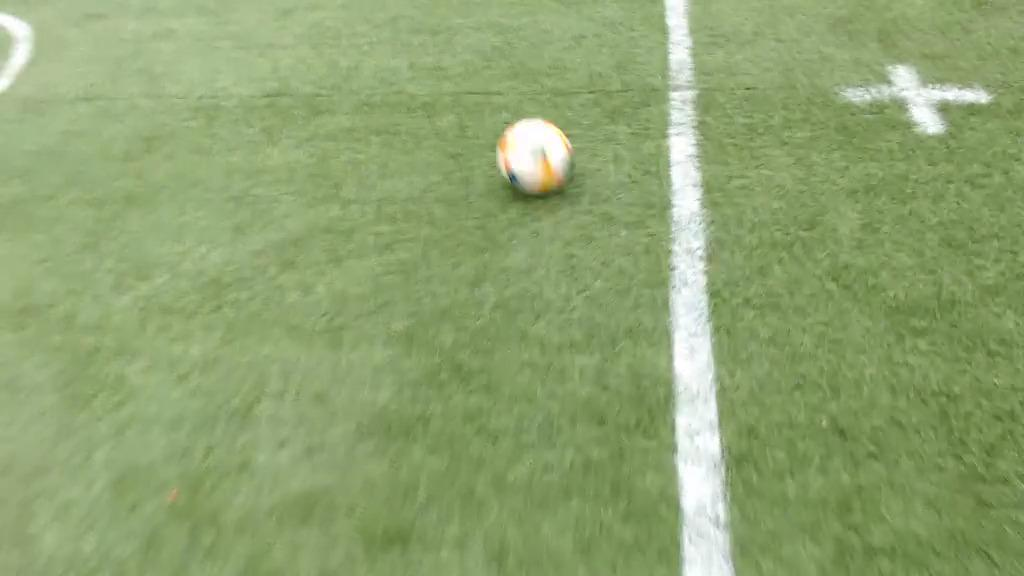ball: (497, 118, 571, 198)
